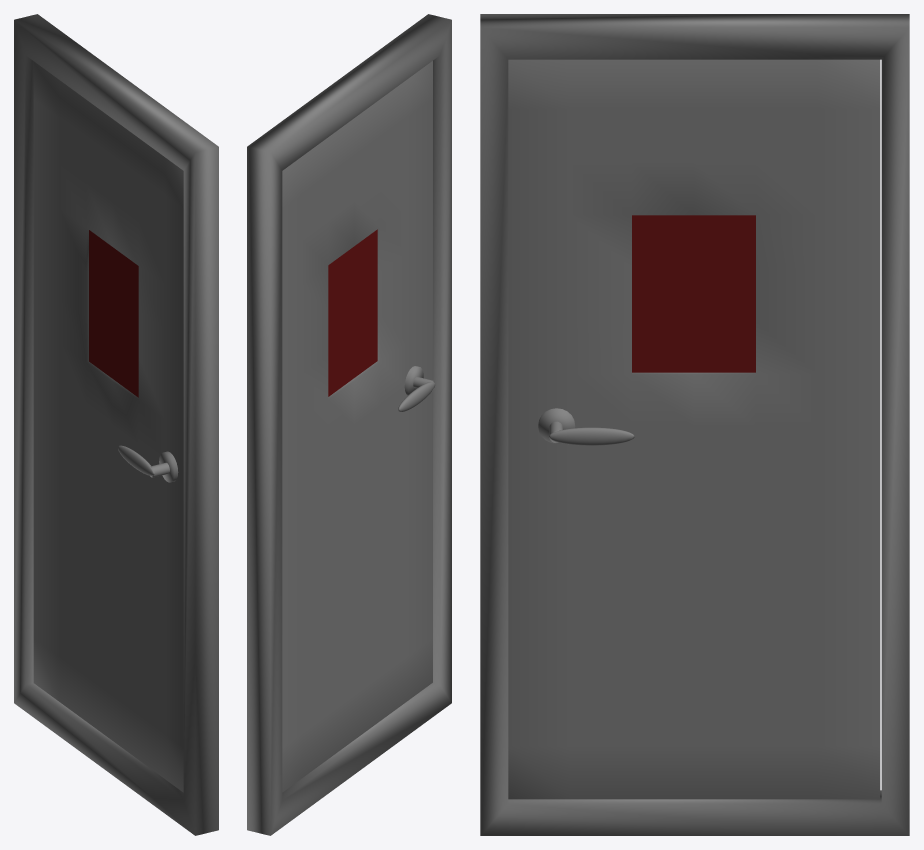
Rendered from Dörr rostig.fbx.
3 renders of one model, left to right at view 1: azimuth 30°, elevation 25°; view 2: azimuth 150°, elevation 25°; view 3: azimuth 270°, elevation 25°, orthographic. The views are drawn at different scales.
Parts seen in each view (by area): view 1: pasted__pSphere1 (×2); view 2: pasted__pSphere1 (×2); view 3: pasted__pSphere1 (×2).
Part boxes in pixels (<box>): pasted__pSphere1 (×2): <box>14,14,218,835</box>; pasted__pSphere1 (×2): <box>247,14,451,835</box>; pasted__pSphere1 (×2): <box>480,14,909,835</box>.
Size of the model in its own units: 0.2415 by 2.82 by 1.36.
